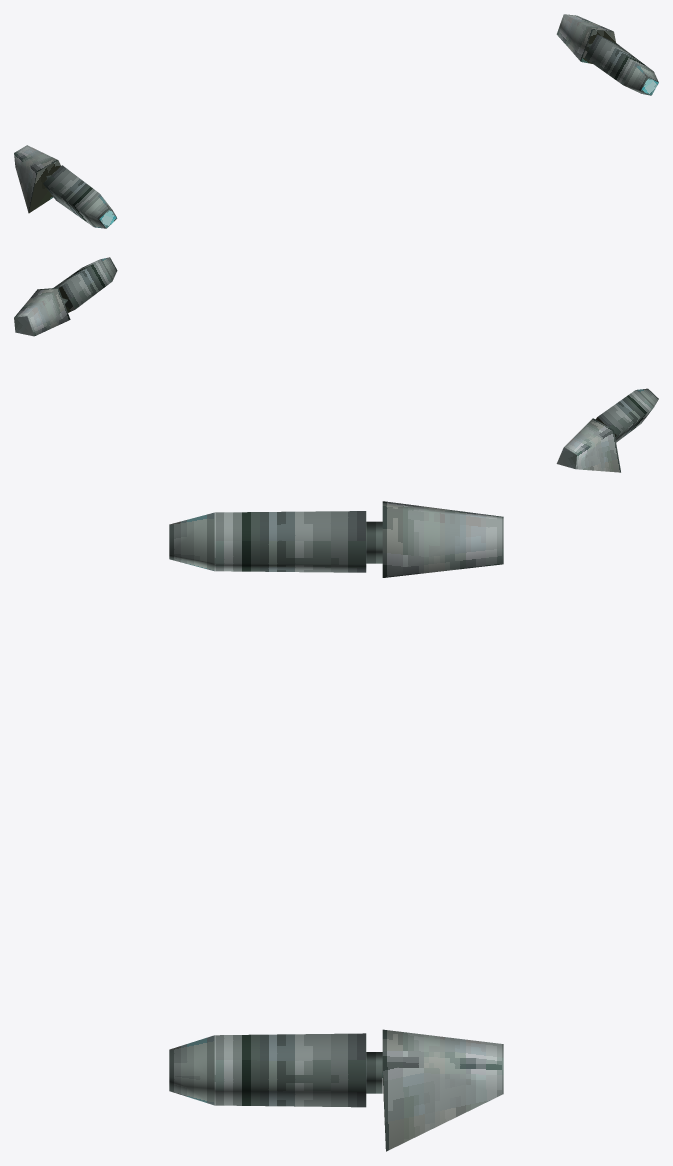
Rendered from black_sun_fighter_medium_weapon2_s02_l2.fbx.
The picture shows the model from 3 angles, top to bottom: view 1: azimuth 30°, elevation 25°; view 2: azimuth 150°, elevation 25°; view 3: azimuth 270°, elevation 25°; orthographic projection. The views are drawn at different scales.
Parts seen in each view (by area): view 1: mesh_node; view 2: mesh_node; view 3: mesh_node.
Part boxes in pixels (x1=…): mesh_node: x1=14, y1=14, x2=658, y2=228; mesh_node: x1=14, y1=257, x2=658, y2=472; mesh_node: x1=169, y1=501, x2=503, y2=1151.
Bounding box in the file's own units: 7.69 × 0.5827 × 1.88.
Materials: 1 (1 with a texture image).
